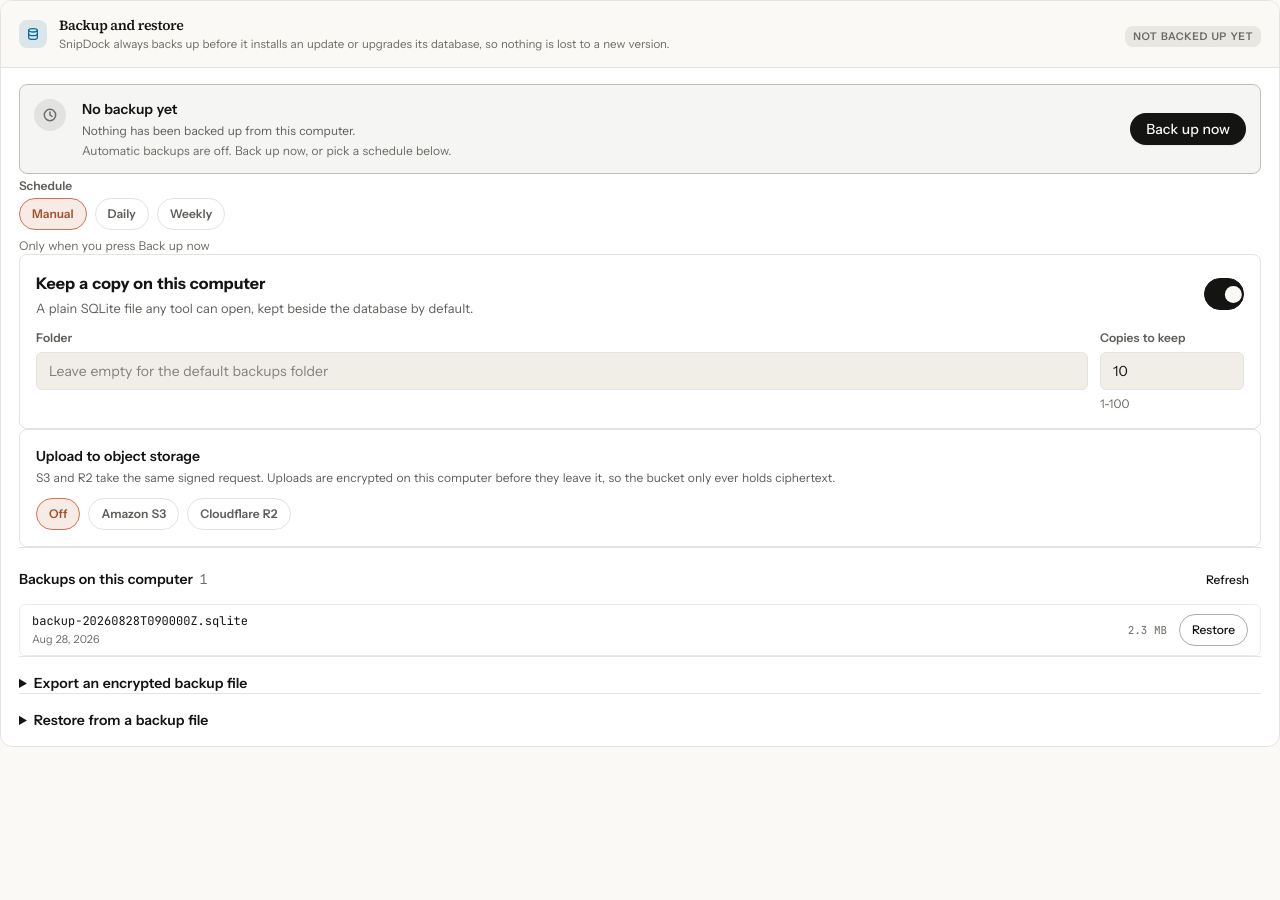
Test: BackupPanel › reports where a backup was written
Click the button "Back up now" at (1188, 129), box [1130, 113, 1246, 145]
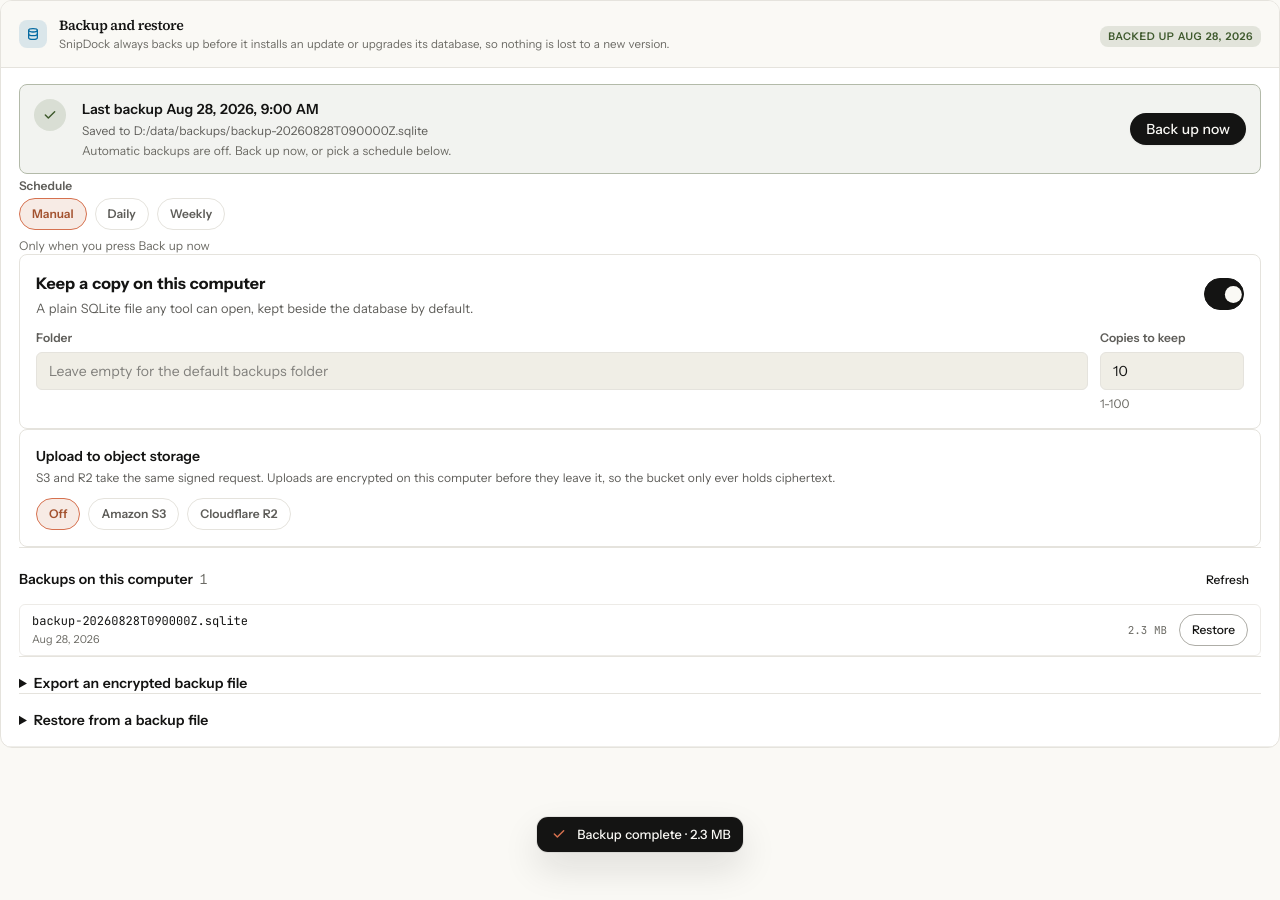
Expected: the element with test id "backup-status" shows "Saved to D:/data/backups/backup-20260828T090000Z.sqlite", [82, 123, 428, 138]
Expected: the text "Backed up aug 28, 2026" is shown, [1100, 26, 1261, 47]
Expected: the message shows "Backup complete", [577, 827, 731, 842]
